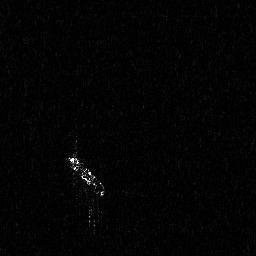ship: (65, 152, 107, 201)
